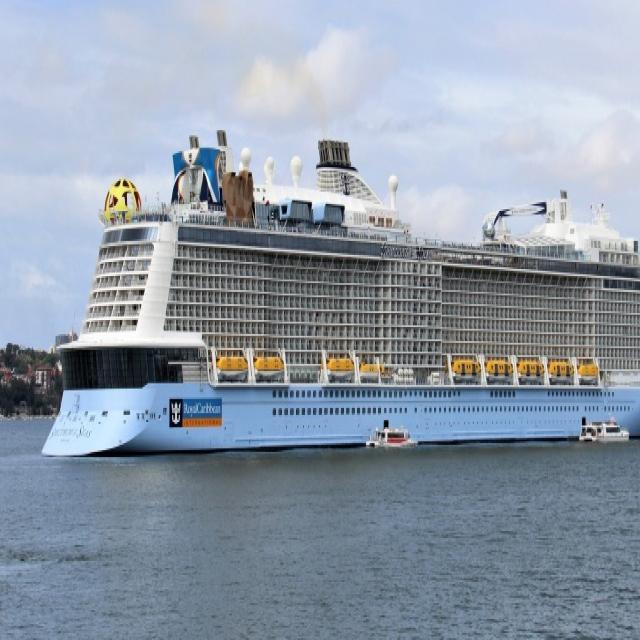cruises: (37, 124, 640, 476)
